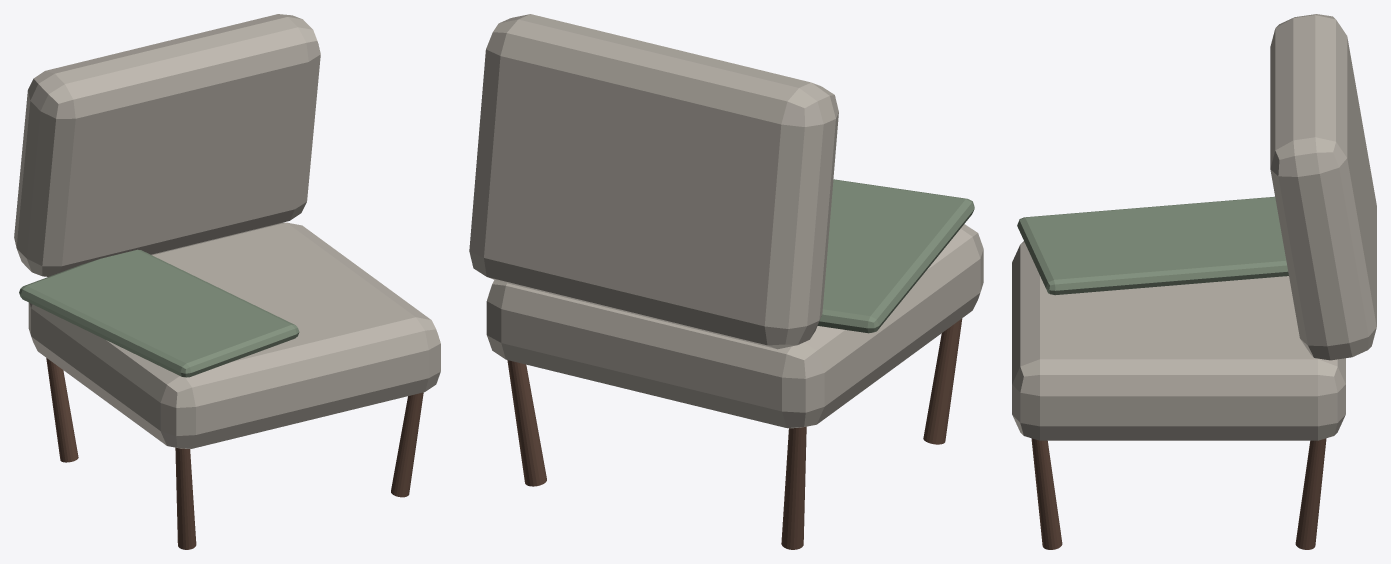
The model's file is loungeChair.glb.
3 views of the same model, side by side, from view 1: azimuth 30°, elevation 25°; view 2: azimuth 150°, elevation 25°; view 3: azimuth 270°, elevation 25° (orthographic). The views are drawn at different scales.
Parts seen in each view (by area): view 1: back.002, seat.002, throw, leg1-1.011, leg-1-1.011, leg-11.011; view 2: back.002, seat.002, throw, leg11.011, leg-11.011, leg-1-1.011; view 3: seat.002, back.002, throw, leg1-1.011, leg11.011.
Boxes of the visible parts, x1,y1,x2,y2 form: back.002: (14, 14, 320, 276); seat.002: (28, 222, 440, 448); throw: (19, 249, 299, 377); leg1-1.011: (391, 392, 423, 497); leg-1-1.011: (175, 447, 196, 549); leg-11.011: (46, 358, 78, 462); back.002: (469, 14, 838, 349); seat.002: (486, 224, 983, 428); throw: (817, 179, 974, 333); leg11.011: (507, 360, 546, 486); leg-11.011: (781, 426, 806, 549); leg-1-1.011: (923, 318, 962, 444); seat.002: (1012, 241, 1345, 440); back.002: (1270, 14, 1376, 360); throw: (1017, 196, 1288, 295); leg1-1.011: (1031, 438, 1062, 549); leg11.011: (1295, 438, 1326, 549).
Bounding box in the file's own units: 0.6821 × 0.8217 × 0.6557.
